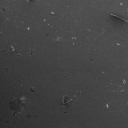corrosion: (8, 97, 27, 115), (60, 96, 72, 114), (53, 36, 63, 43), (9, 45, 16, 52), (28, 49, 35, 56), (121, 78, 127, 85), (70, 36, 78, 41), (116, 41, 121, 47), (105, 104, 111, 109), (30, 87, 36, 92), (50, 11, 55, 16), (119, 2, 124, 6), (26, 27, 30, 31)
